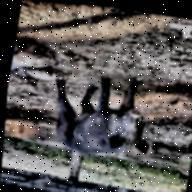boar: (37, 49, 168, 167)
